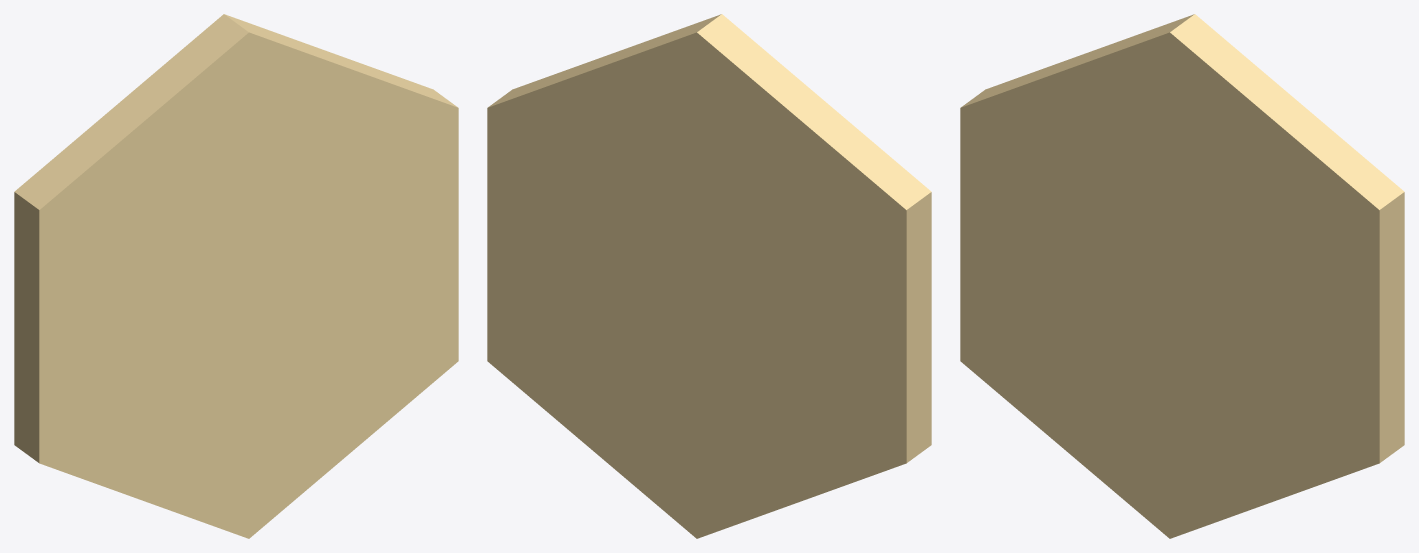
Rendered from badge_marlin.glb.
The picture shows the model from 3 angles, left to right: view 1: azimuth 30°, elevation 25°; view 2: azimuth 150°, elevation 25°; view 3: azimuth 330°, elevation 25°; orthographic projection.
Parts seen in each view (by area): view 1: badge; view 2: badge; view 3: badge.
Boxes of the visible parts, <box> form: badge: <box>14,14,458,538</box>; badge: <box>487,14,931,538</box>; badge: <box>960,14,1404,538</box>.
Size of the model in its own units: 1.73 by 2 by 0.18.
